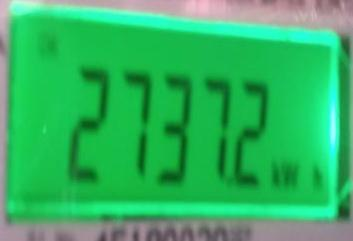.: (267, 159, 328, 193)
0: (225, 178, 234, 190)
3: (63, 63, 111, 185), (232, 81, 270, 188)
4: (155, 75, 194, 184)
8: (114, 71, 152, 183), (200, 75, 235, 180)
